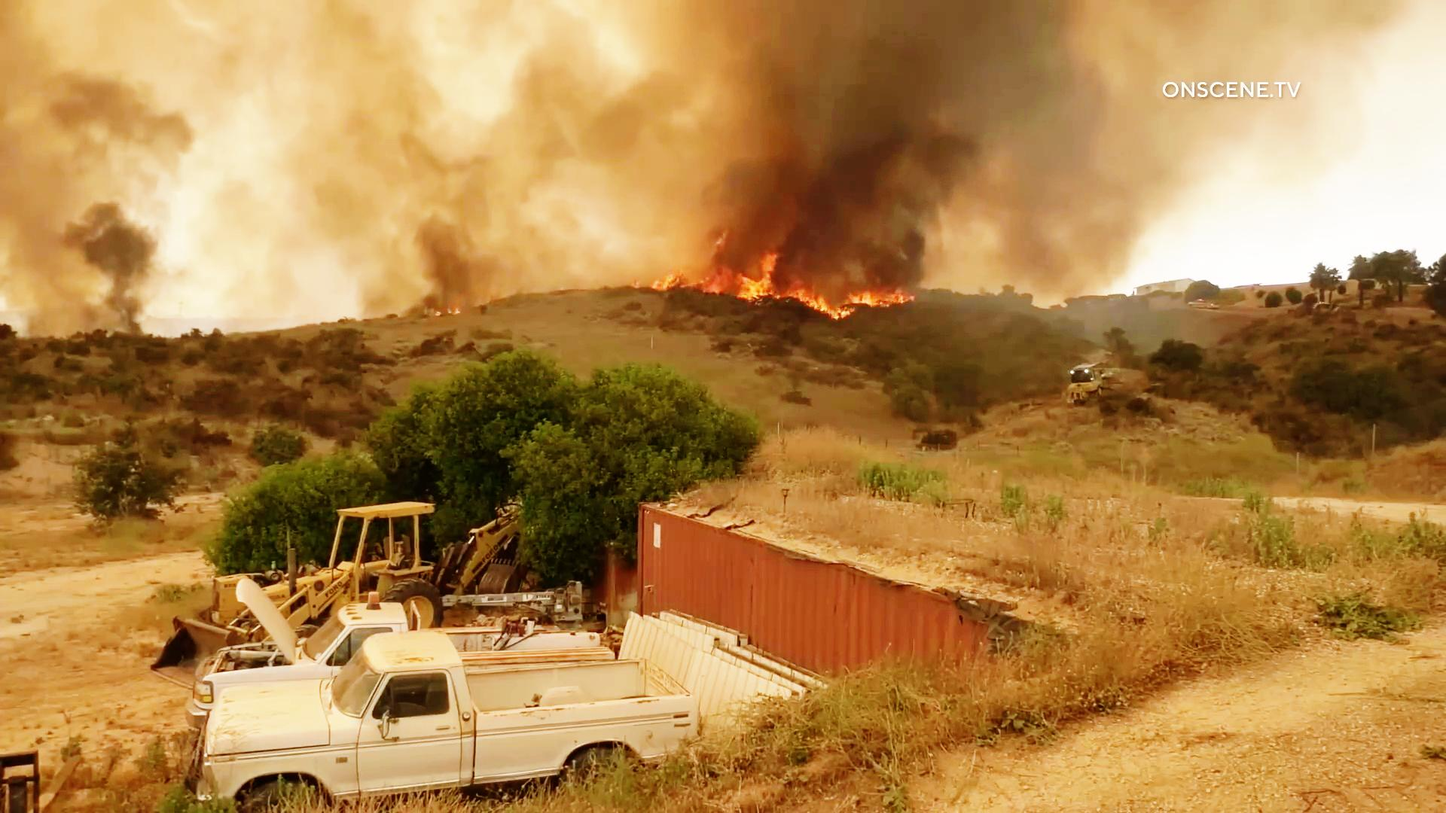fire: (671, 232, 909, 326)
smoke: (761, 6, 927, 241), (55, 204, 192, 338), (411, 185, 495, 317)
